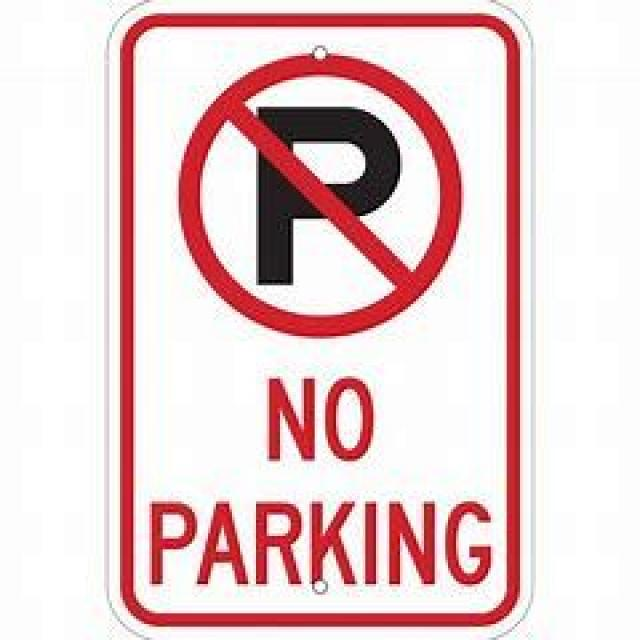NO_PARKING: (176, 51, 464, 336)
